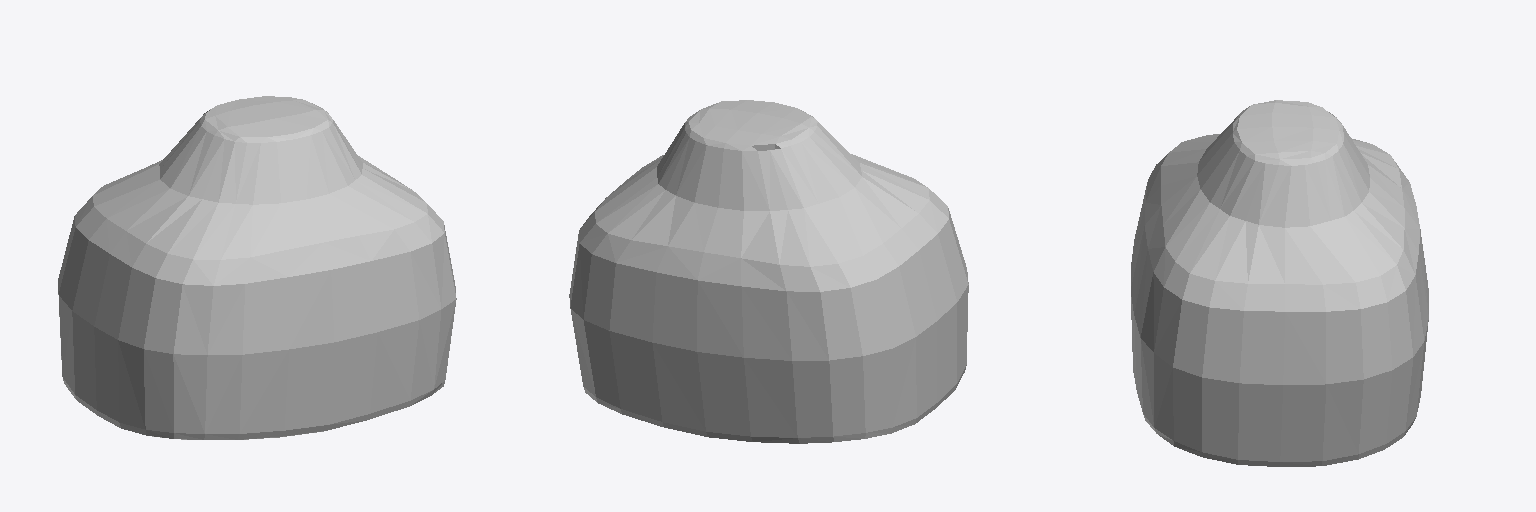
Rendered from TVHead.obj.
The picture shows the model from 3 angles: view 1: azimuth 30°, elevation 25°; view 2: azimuth 150°, elevation 25°; view 3: azimuth 270°, elevation 25°; orthographic projection.
Parts seen in each view (by area): view 1: TelevisionWorkshopVariant02:0; view 2: TelevisionWorkshopVariant02:0; view 3: TelevisionWorkshopVariant02:0.
Boxes of the visible parts, x1,y1,x2,y2 form: TelevisionWorkshopVariant02:0: [58, 96, 456, 439]; TelevisionWorkshopVariant02:0: [569, 100, 968, 443]; TelevisionWorkshopVariant02:0: [1131, 100, 1428, 466].
Size of the model in its own units: 48.17 by 38.34 by 37.56.